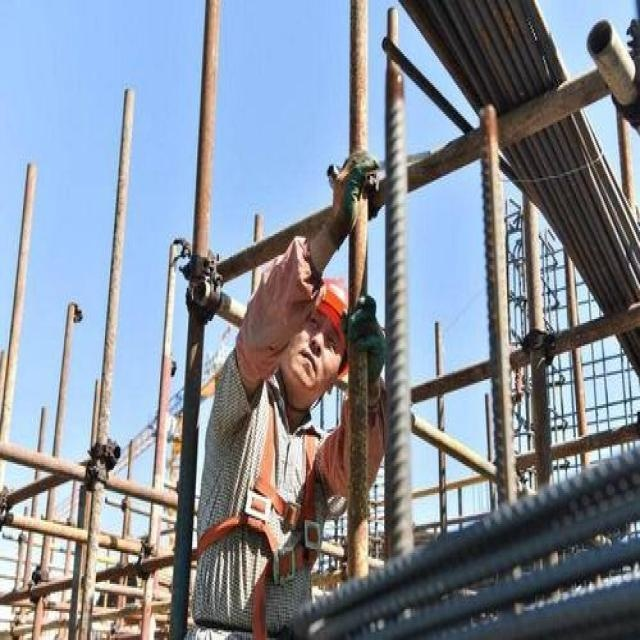Arnes_seguridad: (196, 377, 328, 594)
